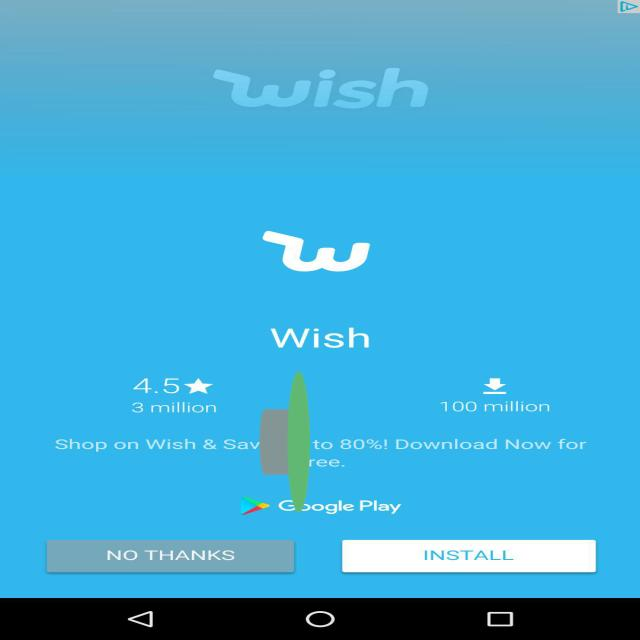social proof: (259, 284, 310, 600)
